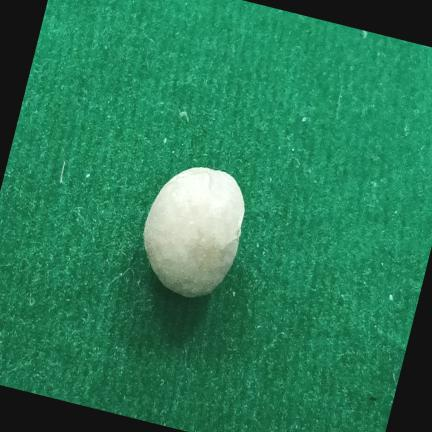cut: (143, 167, 244, 297)
